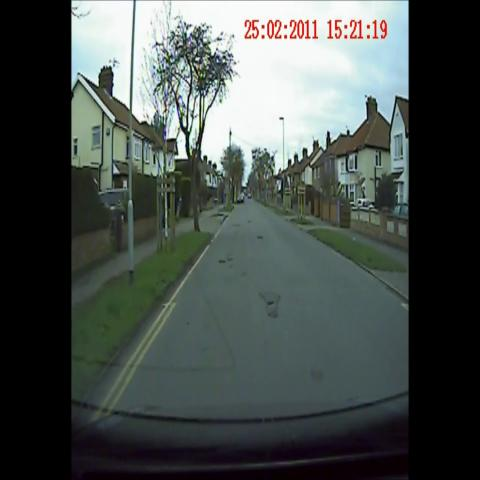pothole: (258, 280, 286, 322), (303, 363, 333, 397), (216, 246, 237, 276), (251, 230, 269, 245), (228, 218, 242, 235), (246, 214, 257, 226)
